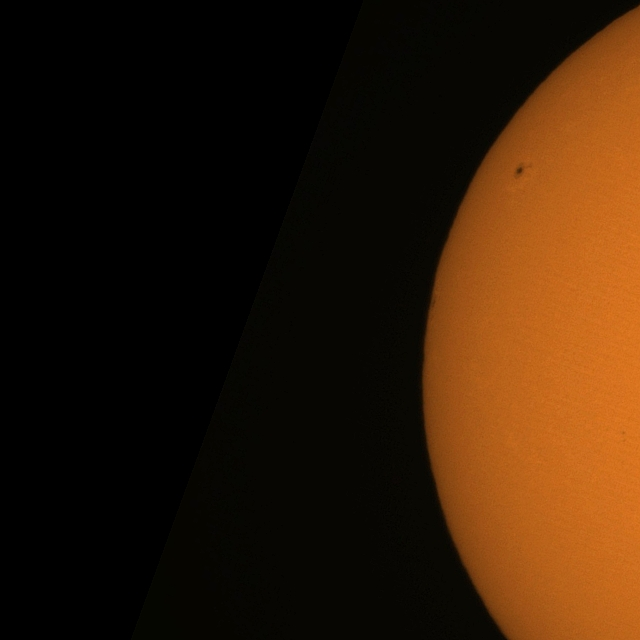sunspot: (513, 162, 532, 182)
